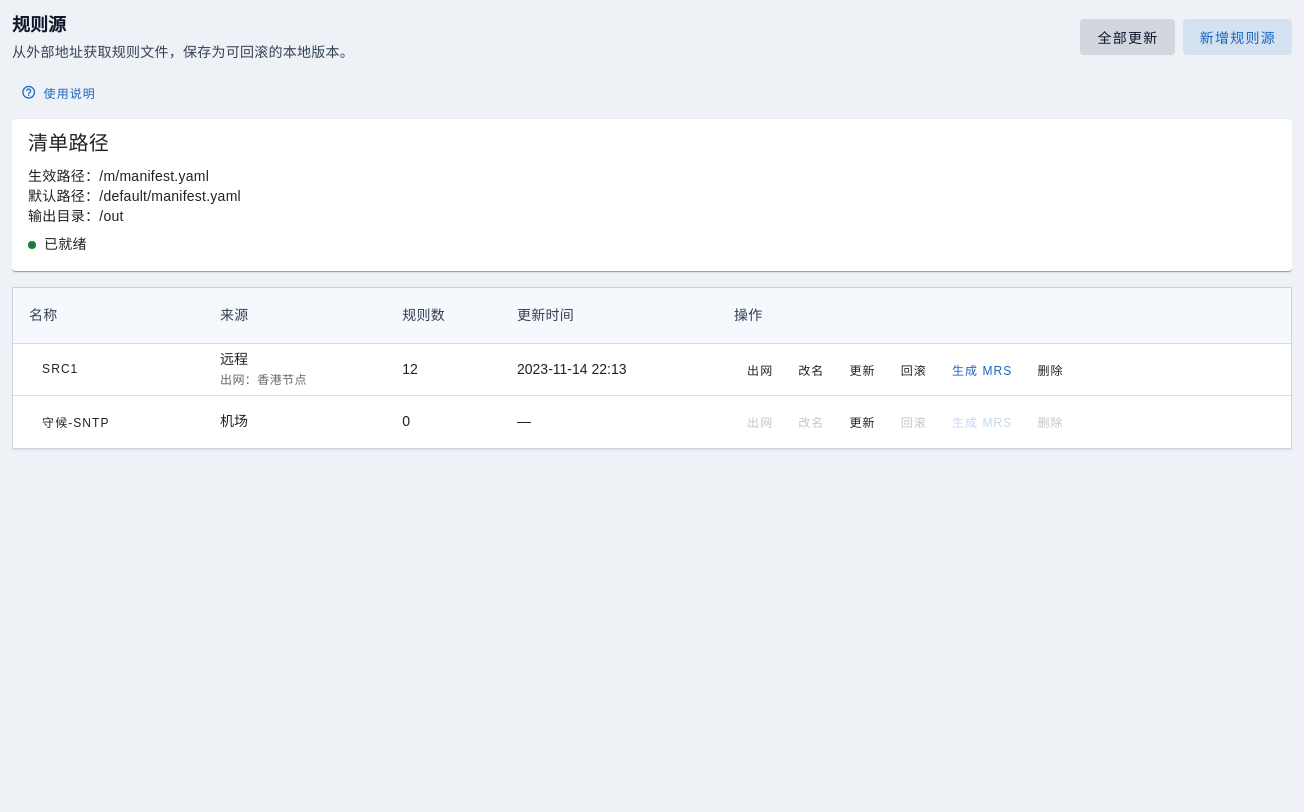
Test: RuleSourcesPage › 全部更新失败时，500 响应体里的逐源结果仍要渲染出来
Click the button with test id "update-all".
click(1127, 38)  # box [1080,20,1175,56]
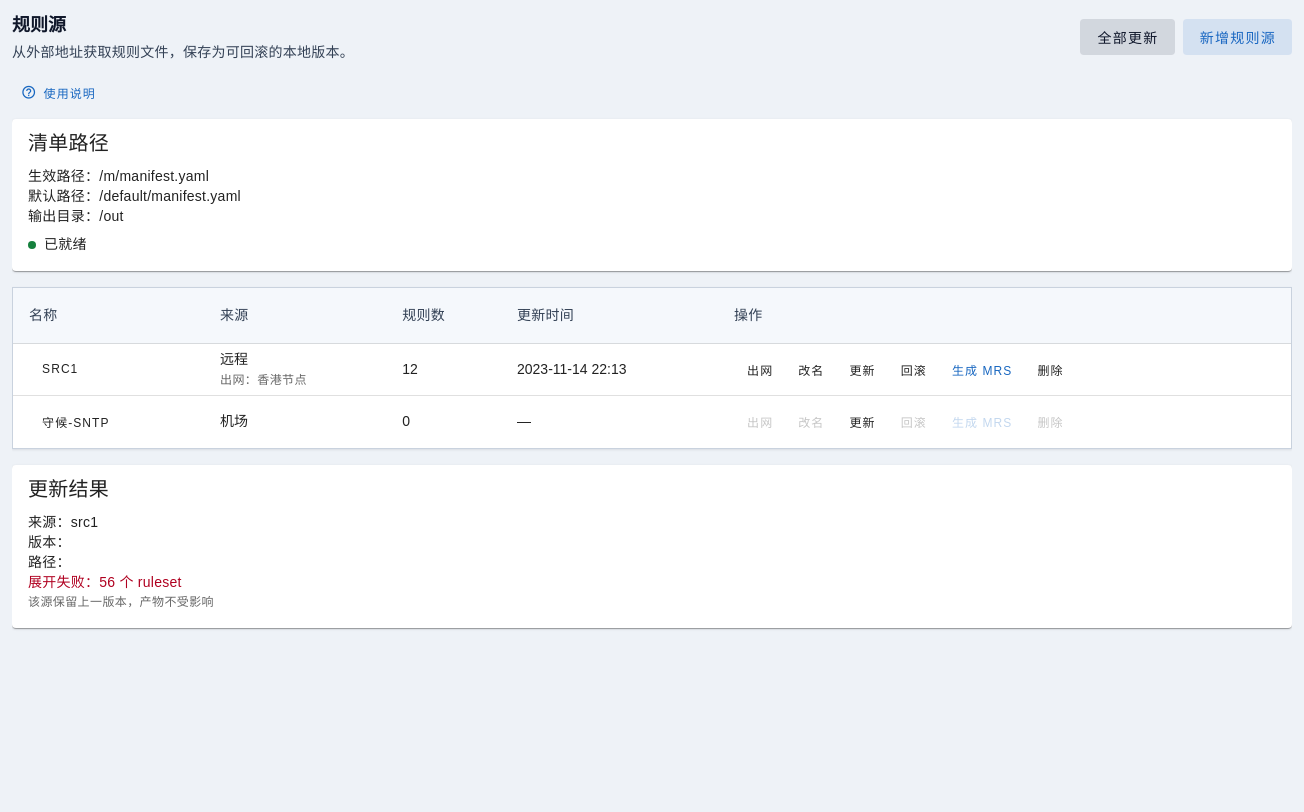
Expected: the element with test id "update-results" is shown, [12,465,1292,628]
Expected: the text with test id "source-update-error" shows "展开失败", [28,574,182,590]
